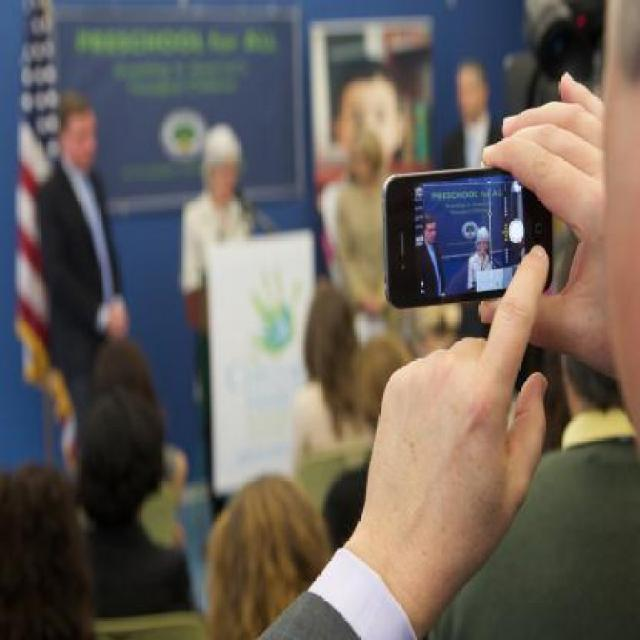phone: (396, 161, 542, 313)
